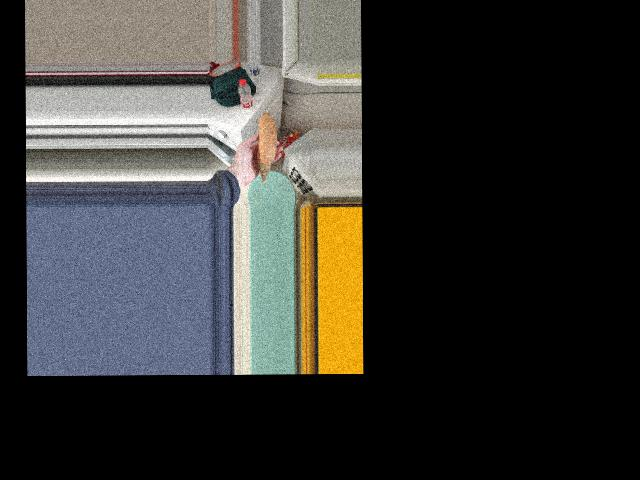sweet_potato: (252, 106, 276, 168)
